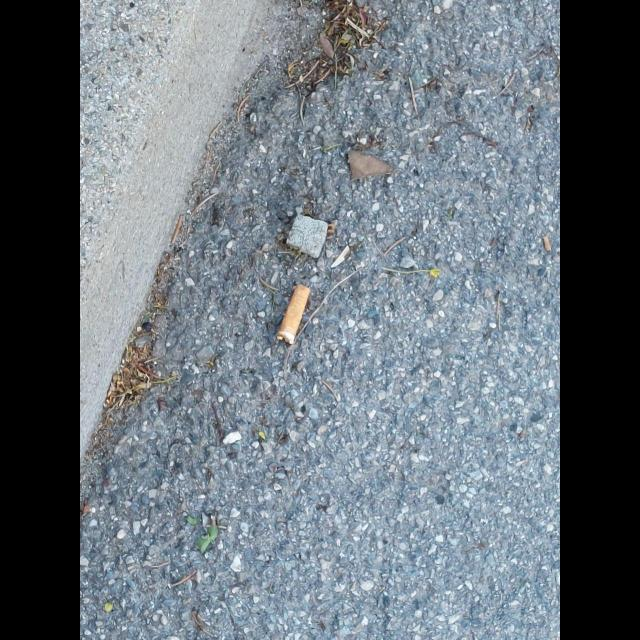cigarette: (277, 282, 310, 346)
